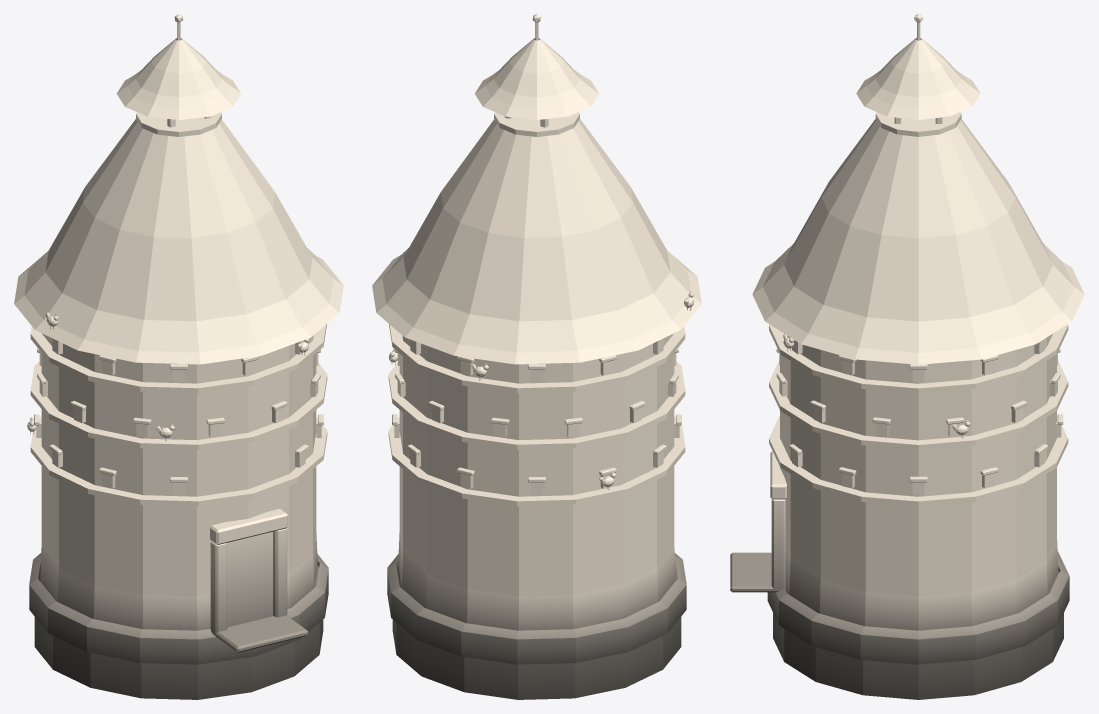
The model's file is SM_VK_Prop_Dovecote.fbx.
3 views of the same model, side by side, from view 1: azimuth 30°, elevation 25°; view 2: azimuth 150°, elevation 25°; view 3: azimuth 270°, elevation 25° (orthographic).
Parts seen in each view (by area): view 1: SM_VK_Prop_Dovecote.001; view 2: SM_VK_Prop_Dovecote.001; view 3: SM_VK_Prop_Dovecote.001.
Boxes of the visible parts, x1=… form: SM_VK_Prop_Dovecote.001: x1=14, y1=14, x2=343, y2=699; SM_VK_Prop_Dovecote.001: x1=372, y1=14, x2=701, y2=699; SM_VK_Prop_Dovecote.001: x1=730, y1=14, x2=1084, y2=699.
Bounding box in the file's own units: 4.8 × 9.95 × 5.12.
